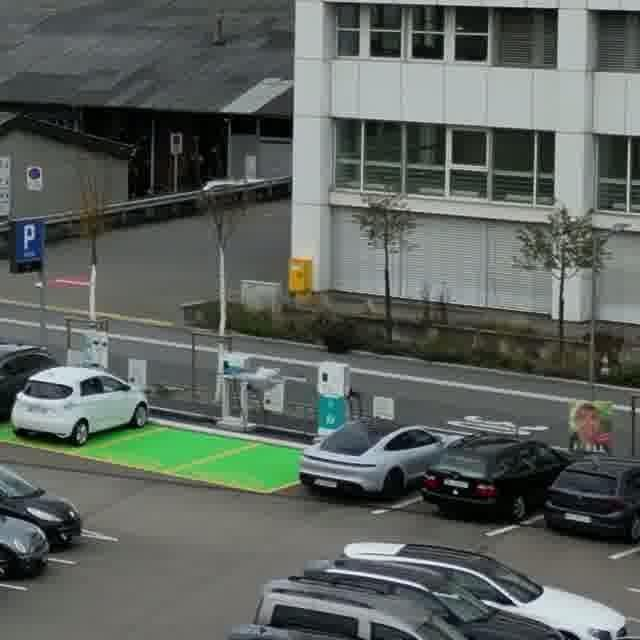Drohne: (225, 368, 306, 391)
